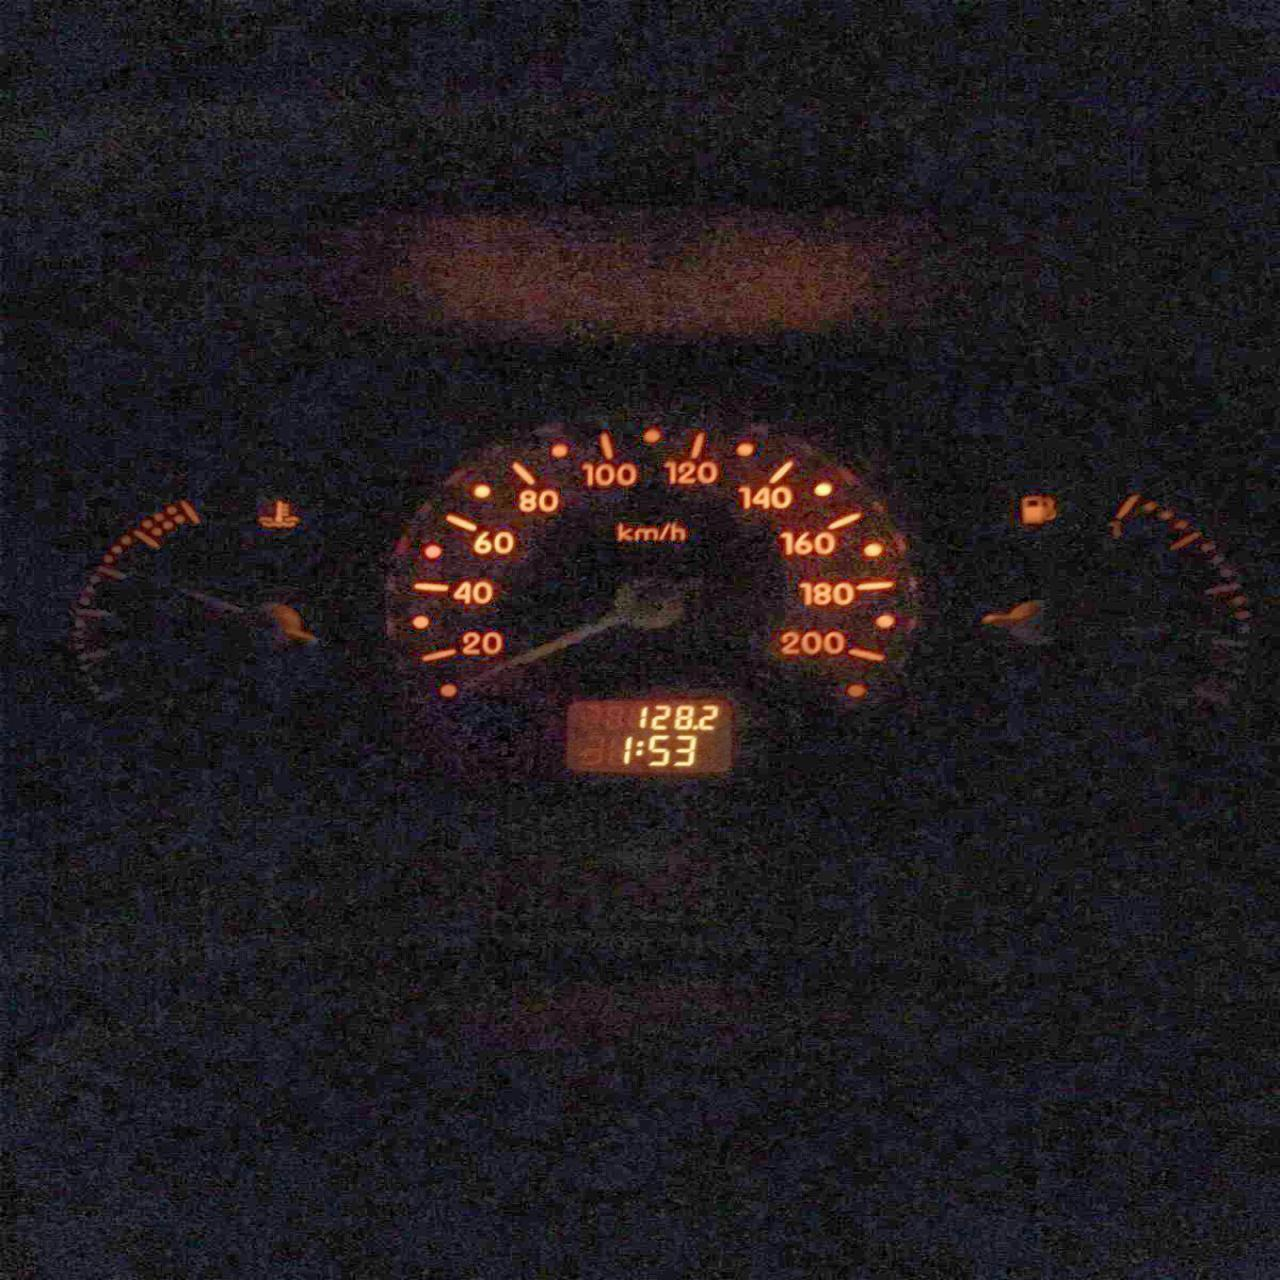-: (692, 724, 697, 730)
1: (621, 734, 632, 764), (638, 706, 647, 729)
2: (649, 704, 669, 730), (697, 704, 717, 729)
3: (672, 735, 695, 767)
5: (646, 735, 669, 765)
8: (673, 704, 693, 729)
X: (634, 740, 644, 755)
odometer: (563, 697, 734, 775)
